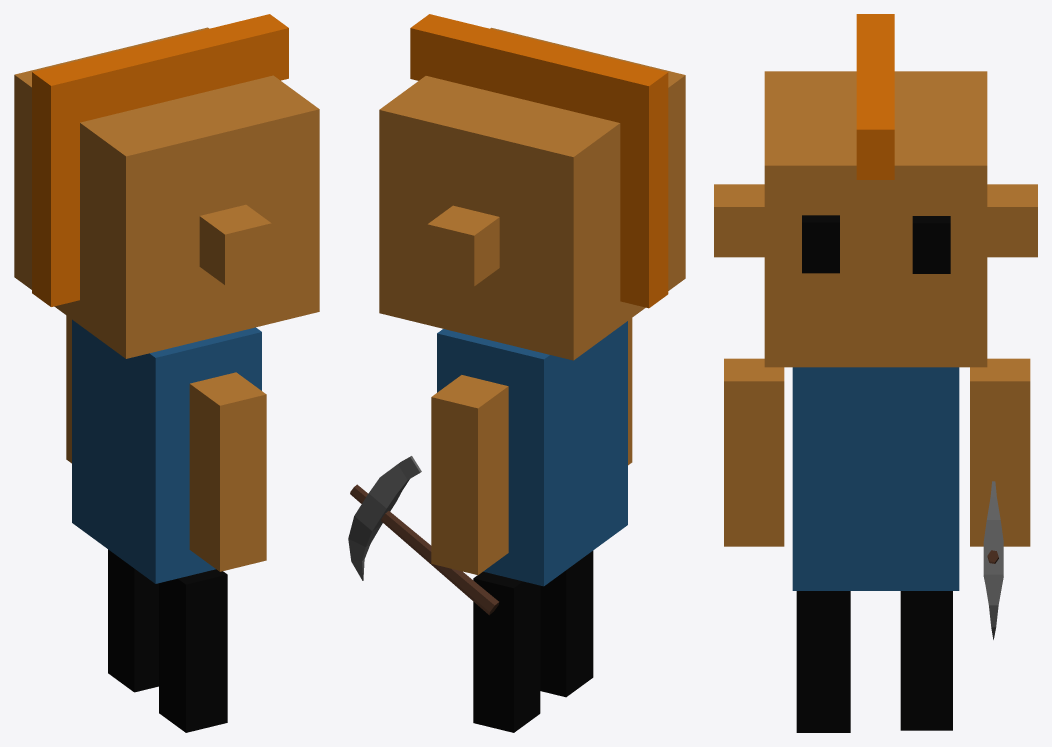
File: Chara-N_pierre.fbx
The picture shows the model from 3 angles, left to right: view 1: azimuth 30°, elevation 25°; view 2: azimuth 150°, elevation 25°; view 3: azimuth 270°, elevation 25°; orthographic projection.
Visible parts, largest first — view 1: Cube.030; view 2: Cube.030; view 3: Cube.030.
Part boxes in pixels (x1,y1,x2,y2): Cube.030: (14, 14, 319, 732); Cube.030: (348, 14, 685, 732); Cube.030: (714, 14, 1037, 732).
Bounding box in the file's own units: 67.51 × 170 × 76.82.
